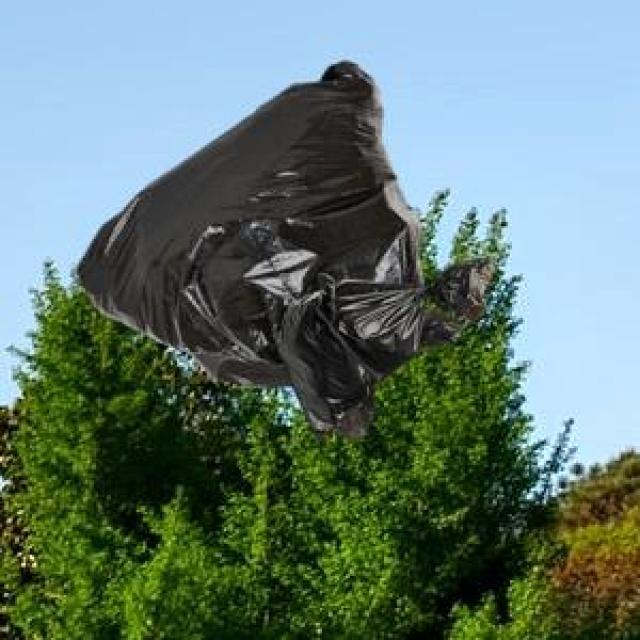Garbage_Bag: (75, 59, 458, 436), (260, 257, 490, 445)
